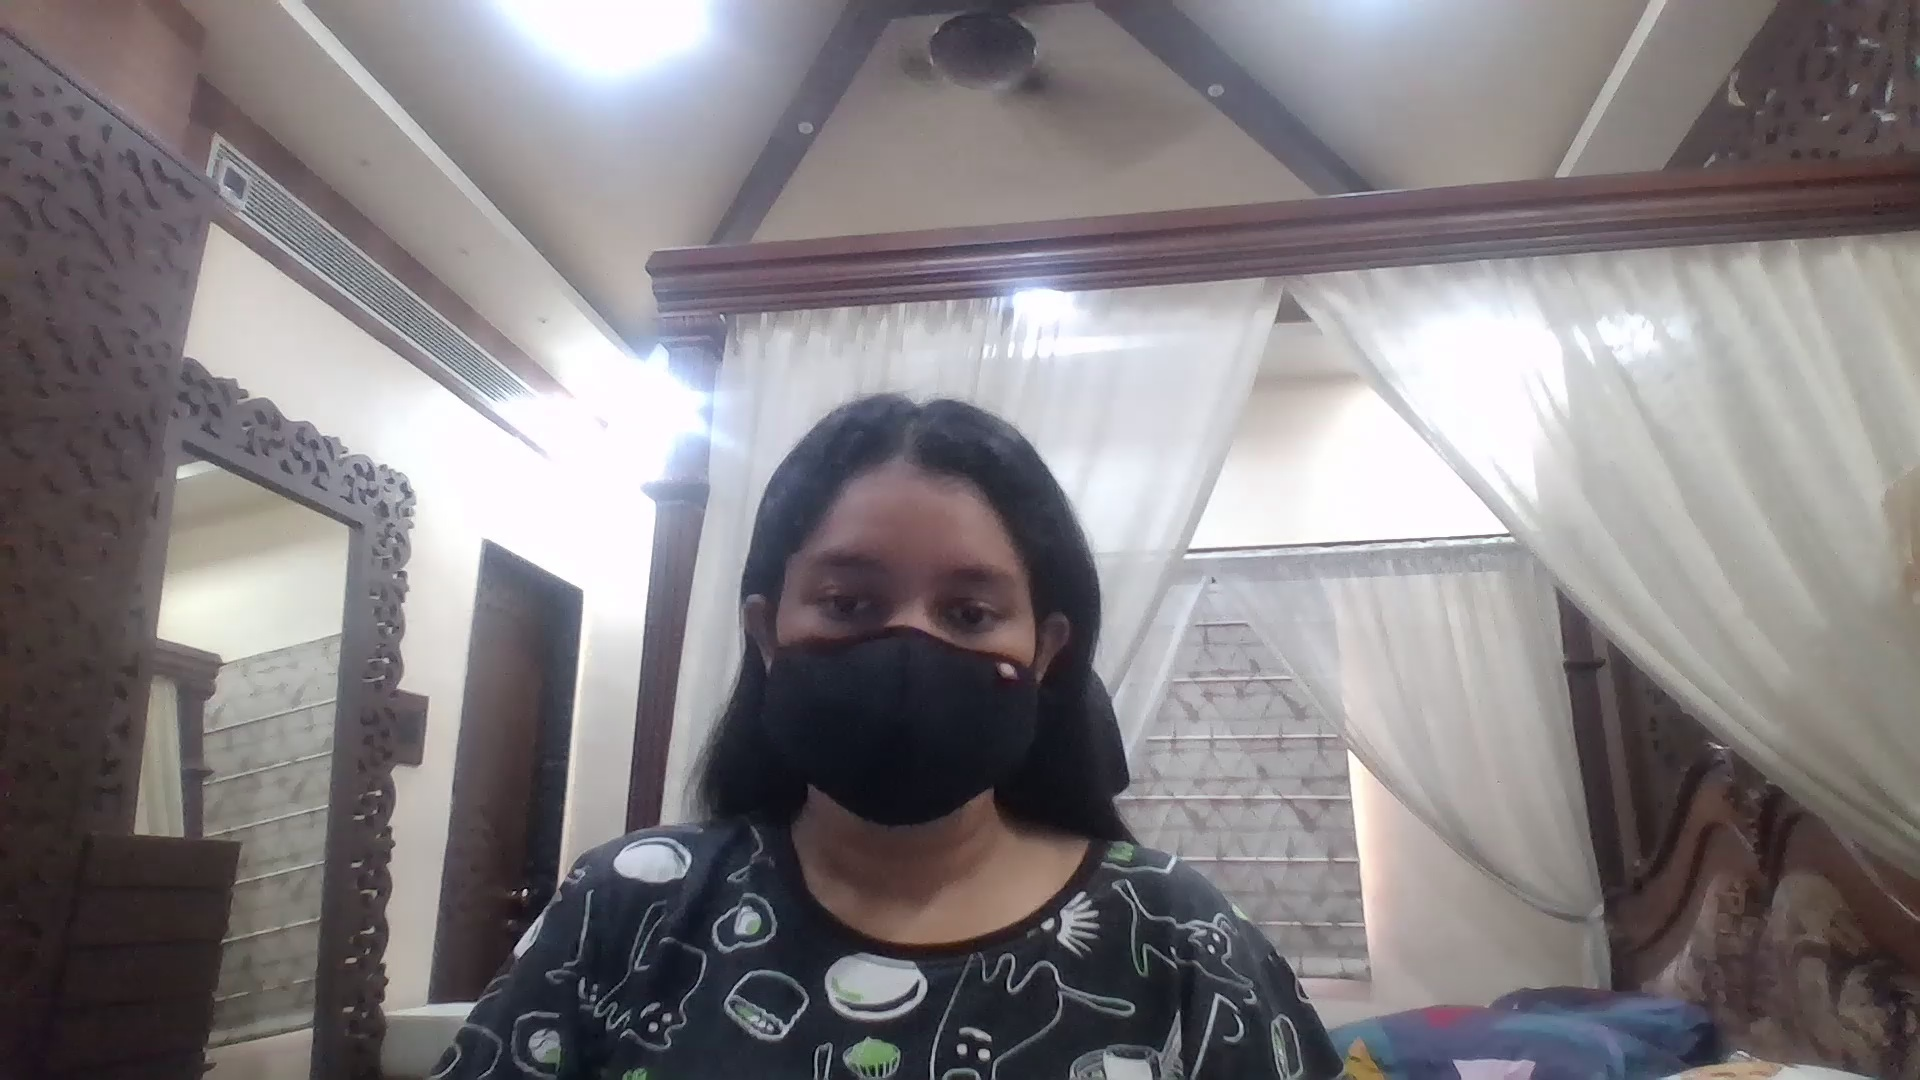Mask: (776, 636, 1021, 830)
